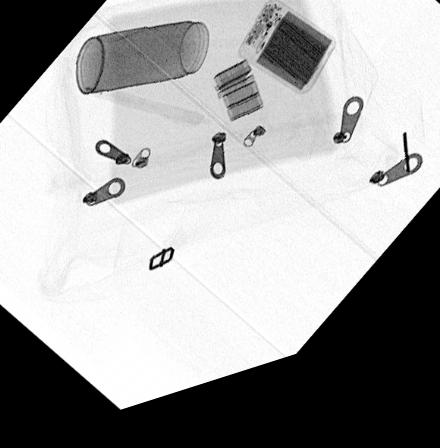Powerbank: (236, 14, 335, 113)
